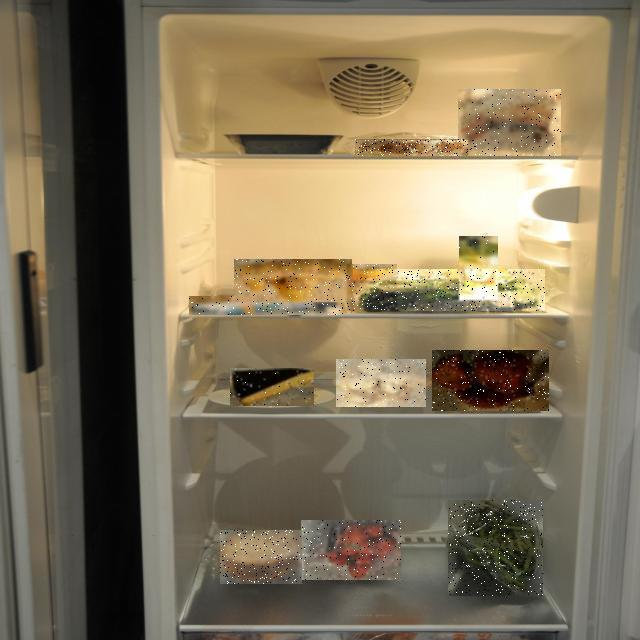Beans: (448, 500, 543, 596)
Bread: (220, 530, 302, 584)
Cheese: (230, 369, 314, 407)
Chocolate: (190, 296, 344, 315)
Corn: (347, 264, 397, 311)
Flour: (458, 89, 561, 156)
Heavy cream: (459, 237, 498, 301)
Mushroom: (337, 359, 427, 407)
Potatoes: (234, 259, 352, 302)
Shrimp: (355, 139, 468, 156)
Spinach: (353, 269, 545, 311)
Straw Berry: (301, 521, 401, 581)
Sweet potato: (432, 350, 549, 411)
